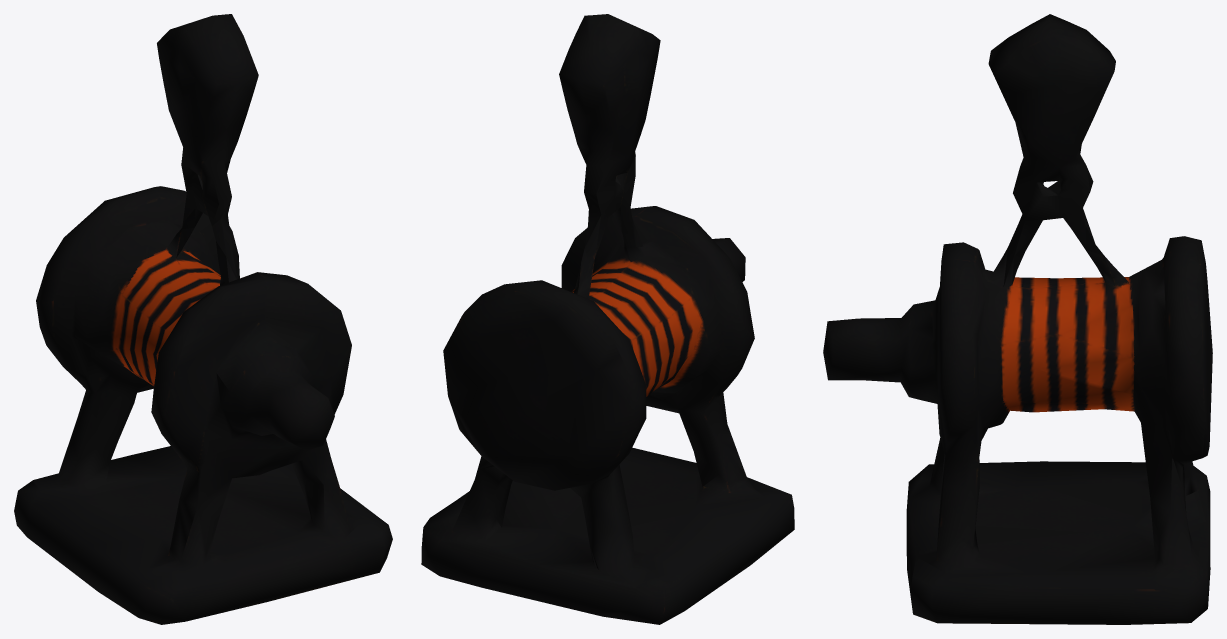
Rendered from grapple-anchor.glb.
The picture shows the model from 3 angles, left to right: view 1: azimuth 30°, elevation 25°; view 2: azimuth 150°, elevation 25°; view 3: azimuth 270°, elevation 25°; orthographic projection. The views are drawn at different scales.
Parts seen in each view (by area): view 1: geometry_0.001; view 2: geometry_0.001; view 3: geometry_0.001.
Part boxes in pixels (box(x1,y1,x2,y2)): geometry_0.001: box(14, 14, 392, 624); geometry_0.001: box(421, 14, 794, 624); geometry_0.001: box(823, 14, 1212, 624).
Size of the model in its own units: 0.5006 by 0.9997 by 0.6456.
Materials: 1 (1 with a texture image).
